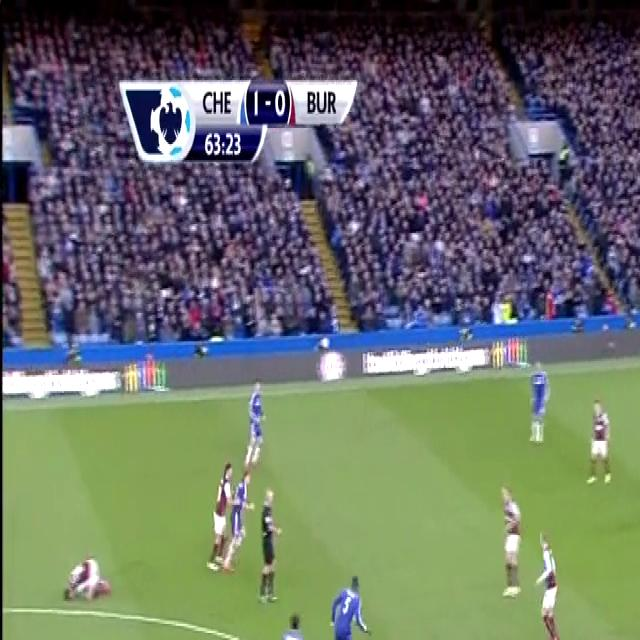referee: (254, 485, 288, 614)
soccer-player: (316, 558, 373, 640), (205, 457, 239, 581), (494, 475, 526, 604), (532, 526, 568, 640), (53, 542, 110, 612), (581, 387, 617, 496), (527, 351, 556, 452), (240, 370, 266, 469), (266, 608, 310, 640)
